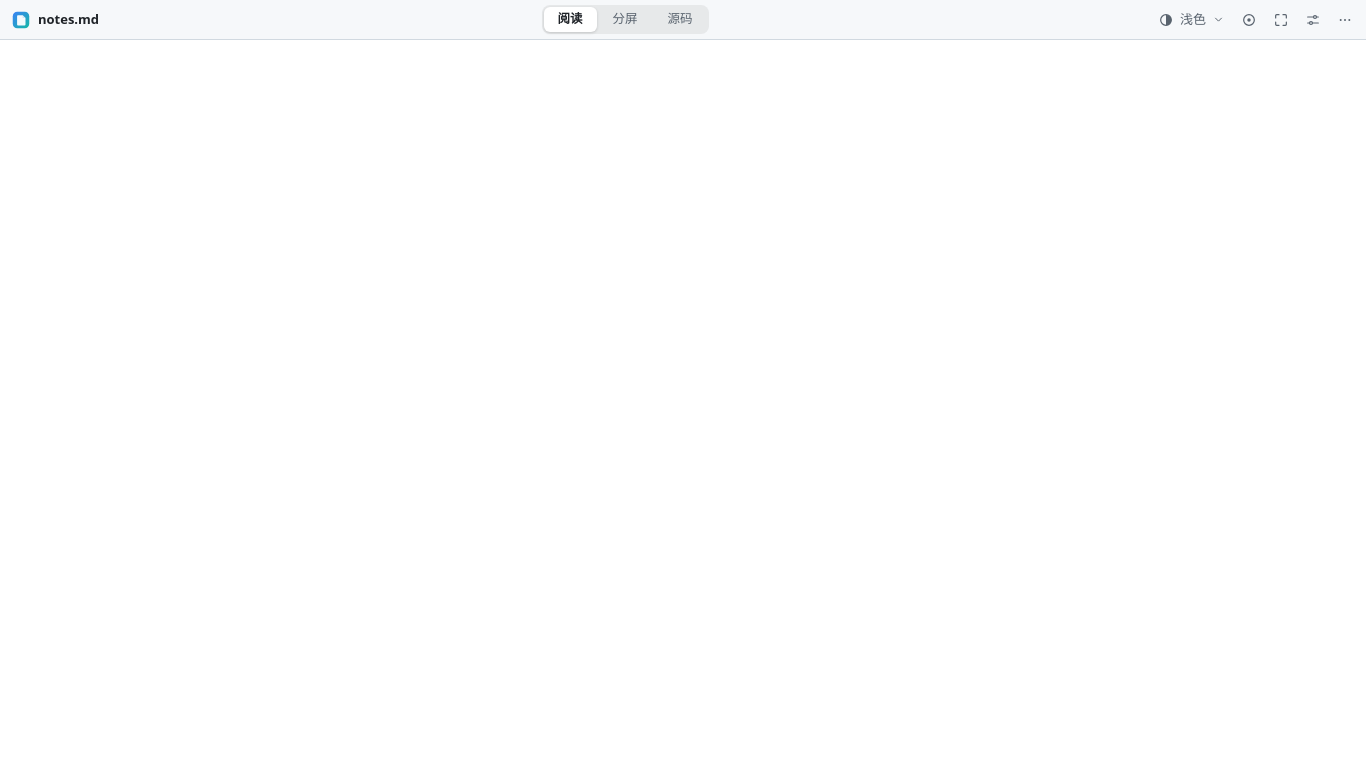
Test: TitleBar · 最近打开文件 › lists at most 10 recent files under a section header
What coordinates should you click on to do the following:
click the button titled "更多操作"
I would click on:
 (1345, 20)
Its box is [1330,6,1360,34].
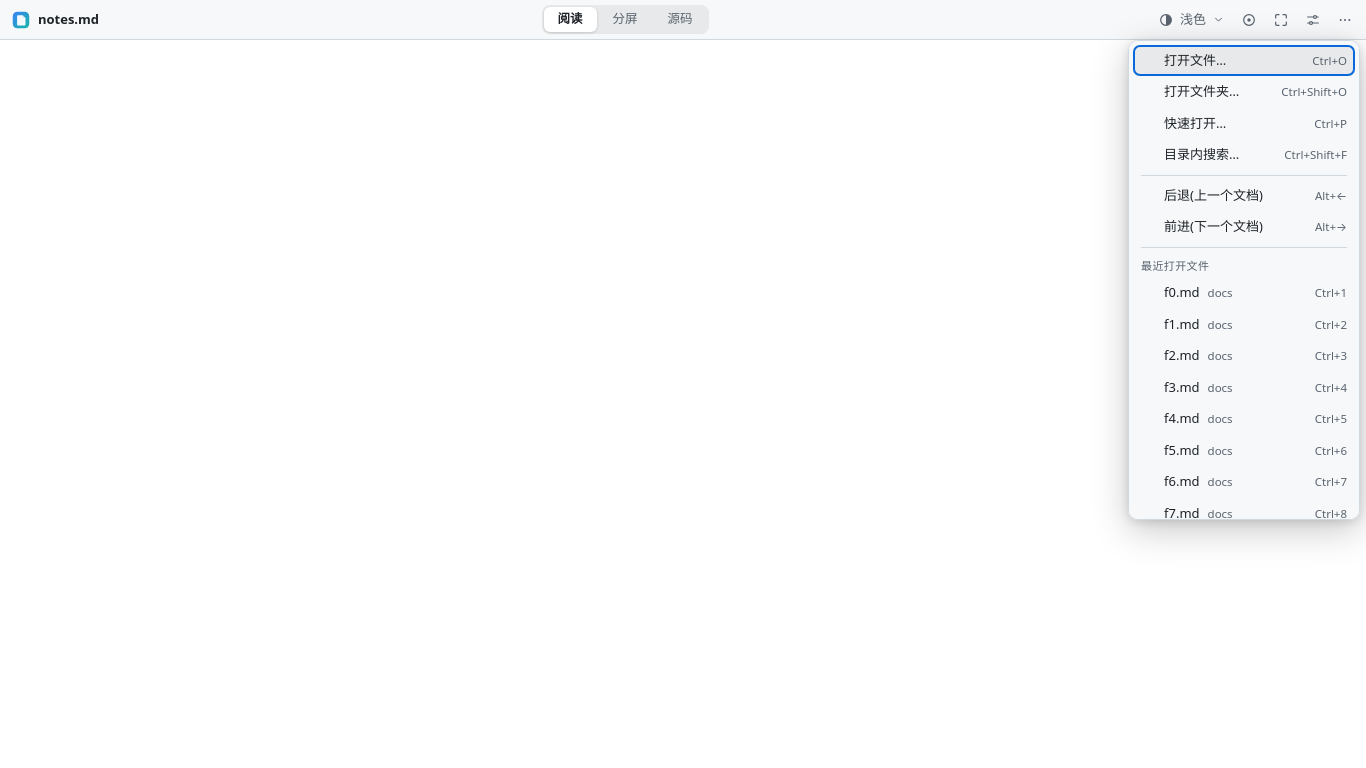
Expected: the text "最近打开文件" is shown, [1141,258,1209,272]
Expected: the text "f0.md" is shown, [1164,283,1200,301]
